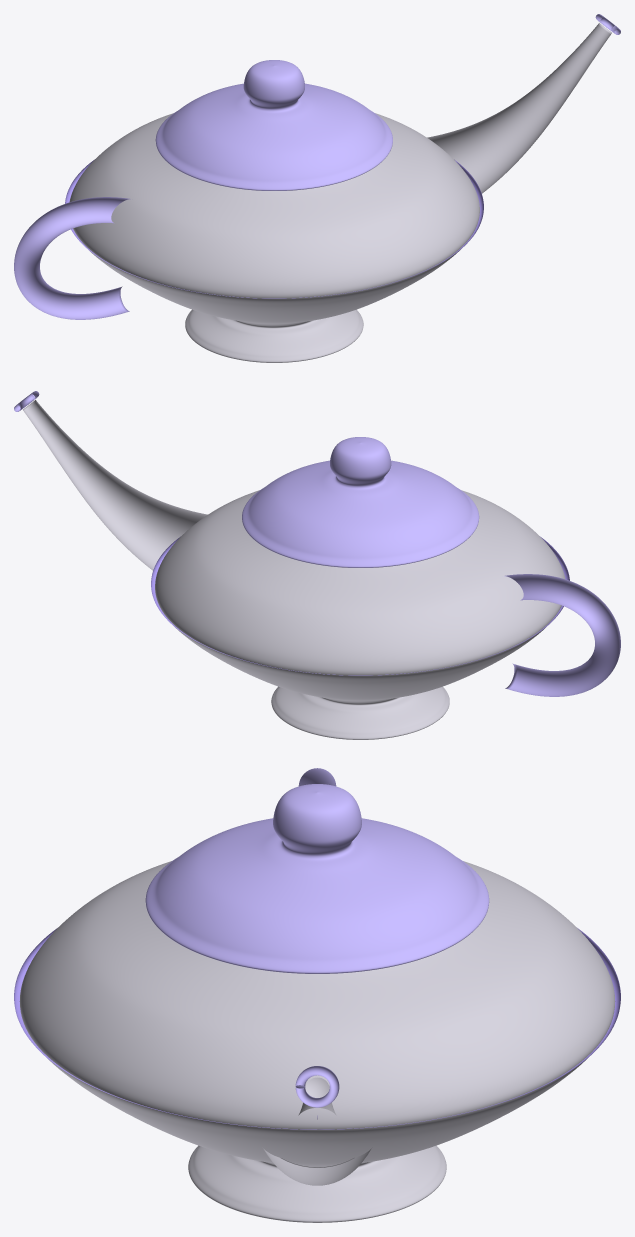
Rendered from Genie Lamp.glb.
3 renders of one model, top to bottom at view 1: azimuth 30°, elevation 25°; view 2: azimuth 150°, elevation 25°; view 3: azimuth 270°, elevation 25°, orthographic. The views are drawn at different scales.
Visible parts, largest first — view 1: Genie Lamp; view 2: Genie Lamp; view 3: Genie Lamp.
Part boxes in pixels (<box>): Genie Lamp: <box>14,14,620,362</box>; Genie Lamp: <box>14,391,620,739</box>; Genie Lamp: <box>14,768,620,1222</box>.
Bounding box in the file's own units: 2.95 × 1.22 × 1.77.
